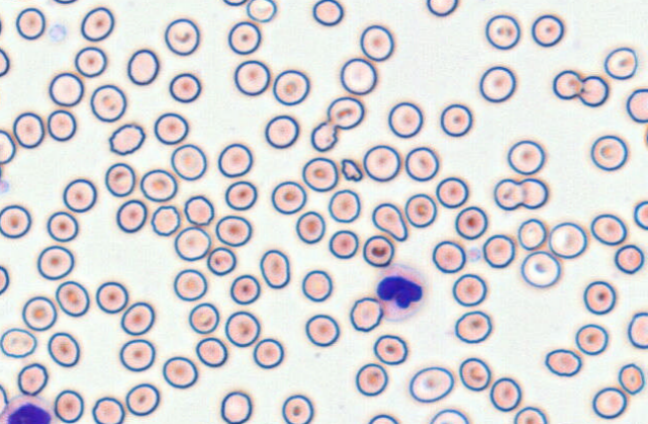GRAN: (372, 264, 429, 323), (1, 395, 56, 424)
RBC: (408, 365, 454, 403), (520, 250, 561, 288), (89, 83, 127, 122), (339, 57, 377, 95), (362, 144, 400, 182), (548, 221, 587, 258), (478, 65, 516, 102), (590, 134, 628, 171), (272, 68, 310, 105), (506, 139, 545, 175), (164, 17, 200, 56), (233, 59, 270, 96), (36, 244, 74, 280), (224, 310, 260, 347), (301, 156, 338, 192), (170, 143, 206, 180), (387, 101, 423, 138), (173, 226, 211, 261), (21, 295, 57, 331), (48, 71, 84, 107), (484, 14, 520, 50), (55, 280, 90, 317), (359, 24, 394, 61), (139, 168, 177, 202), (259, 248, 290, 289), (62, 177, 97, 213), (217, 142, 253, 177), (454, 310, 492, 343), (326, 96, 364, 129), (264, 114, 299, 149), (404, 146, 439, 181), (349, 296, 383, 332), (304, 313, 340, 347), (119, 338, 155, 372), (215, 214, 252, 247), (108, 122, 145, 155), (126, 48, 159, 85), (125, 382, 160, 416), (271, 180, 306, 214), (80, 6, 114, 41), (153, 111, 188, 145), (227, 20, 261, 55), (591, 386, 627, 419), (47, 331, 80, 367), (162, 356, 198, 389), (590, 213, 627, 245), (12, 111, 44, 148), (120, 301, 154, 335), (530, 13, 564, 47), (603, 46, 637, 80), (458, 356, 491, 391), (431, 240, 466, 273), (452, 273, 487, 306), (454, 205, 487, 240), (482, 233, 515, 268), (404, 193, 437, 228), (583, 280, 616, 315), (439, 102, 472, 137), (489, 376, 521, 412), (0, 327, 37, 358), (355, 362, 388, 396), (95, 280, 128, 314), (173, 268, 207, 301), (327, 189, 360, 223), (544, 348, 582, 377), (373, 333, 407, 365), (115, 199, 147, 233), (104, 162, 135, 197), (220, 390, 252, 423), (362, 234, 394, 267), (575, 323, 608, 355), (435, 176, 468, 208), (17, 362, 48, 396), (0, 204, 31, 238), (53, 389, 84, 423), (252, 337, 284, 369), (46, 210, 78, 242), (301, 269, 332, 302), (74, 46, 107, 77), (168, 72, 201, 103), (295, 210, 325, 244), (493, 178, 524, 210), (578, 75, 609, 107), (183, 194, 214, 226), (188, 302, 219, 334), (195, 337, 228, 367), (15, 7, 45, 40), (224, 180, 257, 210), (552, 69, 583, 100), (229, 274, 260, 305), (150, 204, 180, 236), (517, 217, 546, 250), (281, 394, 314, 423), (519, 177, 548, 209), (47, 109, 76, 141), (617, 362, 645, 395), (91, 396, 125, 423), (206, 246, 236, 276), (328, 229, 358, 259), (614, 244, 644, 274), (312, 0, 344, 26), (627, 311, 647, 349), (626, 87, 647, 123), (246, 0, 277, 22), (429, 408, 469, 423), (513, 406, 547, 423), (0, 129, 16, 164), (426, 0, 458, 16), (633, 200, 647, 230), (367, 413, 399, 423), (0, 47, 10, 77), (0, 265, 9, 295), (0, 383, 8, 414), (222, 0, 247, 6), (643, 122, 648, 149), (51, 0, 78, 4), (0, 10, 3, 36)
Schistocyte: (371, 202, 409, 242), (313, 122, 339, 153), (340, 157, 364, 182)
